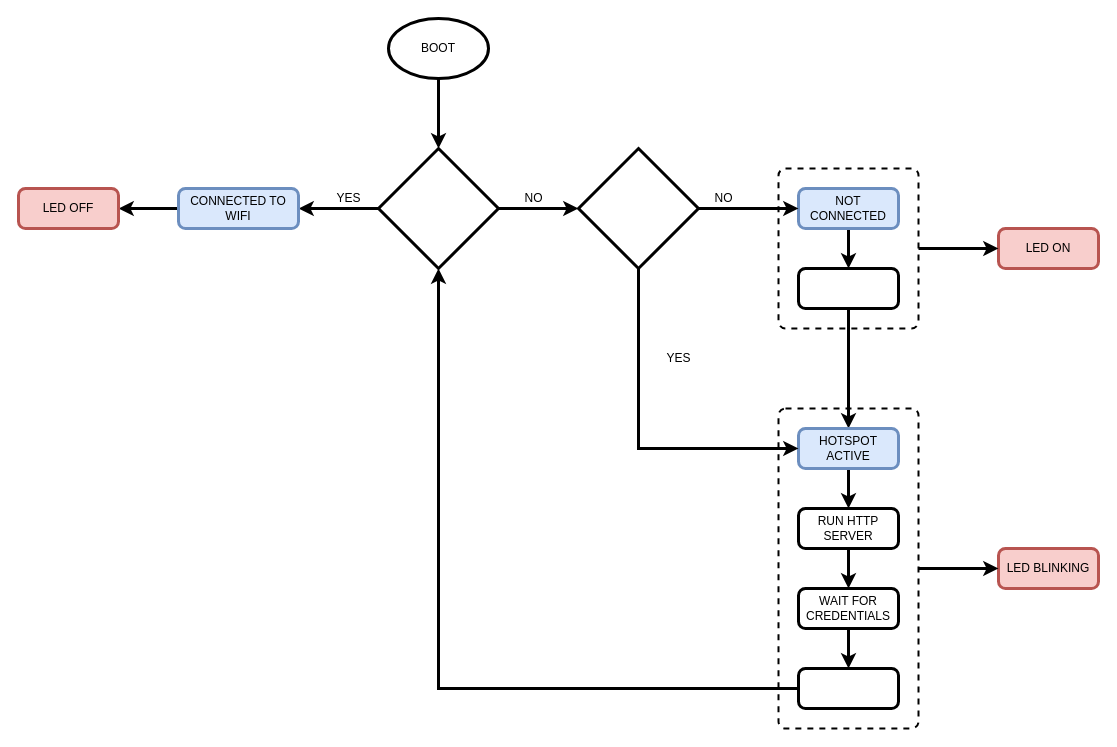
Some shapes in this 1117 by 747 pixel diagram are drawn without their labels. The centre of each missing label's shape, as x and y in pixels:
"CONNECTED TO WIFI?" belongs at point 438,208.
"CONNECTING..." belongs at point 848,688.
"CREATE HOTSPOT" belongs at point 848,288.
"HOTSPOT ACTIVE?" belongs at point 638,208.
